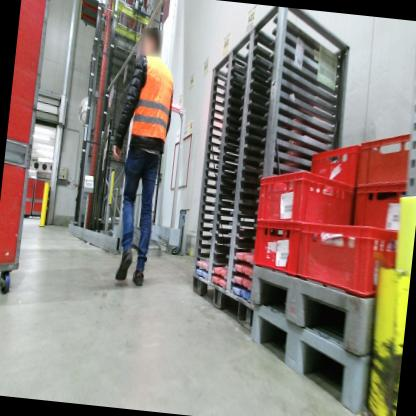pallet: (237, 261, 392, 367), (241, 309, 375, 416)
small_load_carrier: (295, 210, 410, 309), (249, 211, 347, 284), (248, 169, 346, 236), (345, 183, 416, 252), (354, 120, 412, 198), (304, 132, 363, 192)
